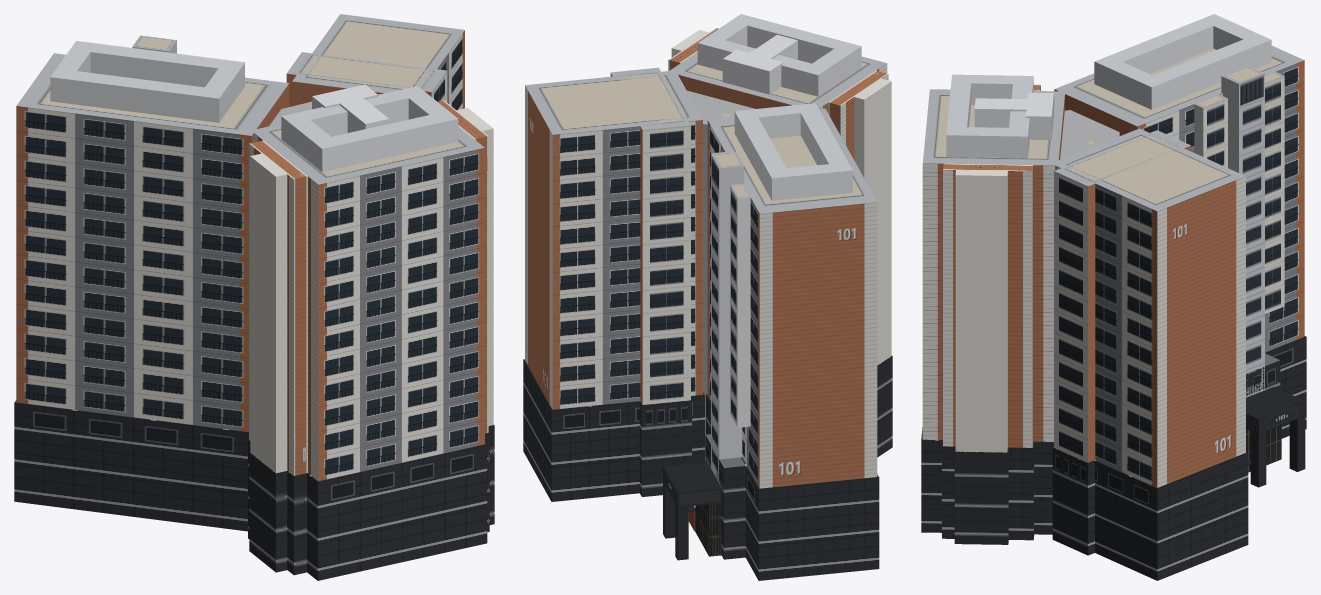
Rendered from 3D_place_101.glb.
The picture shows the model from 3 angles, left to right: view 1: azimuth 30°, elevation 25°; view 2: azimuth 150°, elevation 25°; view 3: azimuth 270°, elevation 25°; orthographic projection. The views are drawn at different scales.
Visible parts, largest first — view 1: KumhoParkHills_101; view 2: KumhoParkHills_101, Dong101_PhotoMatched_Entrance; view 3: KumhoParkHills_101, Dong101_PhotoMatched_Entrance.
Part boxes in pixels (<box>): KumhoParkHills_101: <box>14,14,494,580</box>; KumhoParkHills_101: <box>523,14,892,580</box>; Dong101_PhotoMatched_Entrance: <box>663,462,721,560</box>; KumhoParkHills_101: <box>921,14,1306,580</box>; Dong101_PhotoMatched_Entrance: <box>1246,387,1305,487</box>.
Size of the model in its own units: 45.2 by 43.4 by 38.67.
44 materials, 21 textured.
